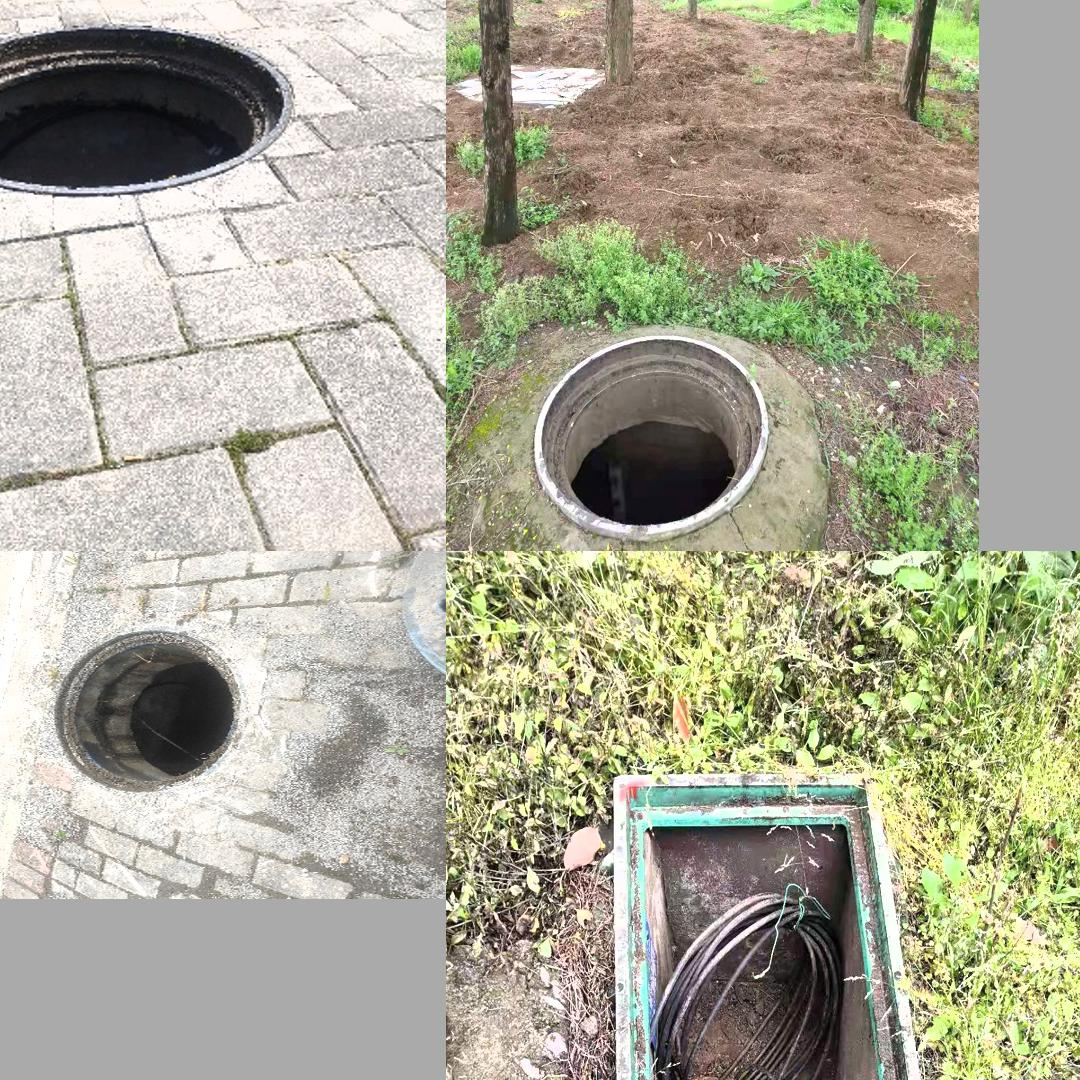lose: (610, 770, 942, 1080), (0, 29, 297, 200), (532, 335, 771, 539), (58, 631, 240, 792)
